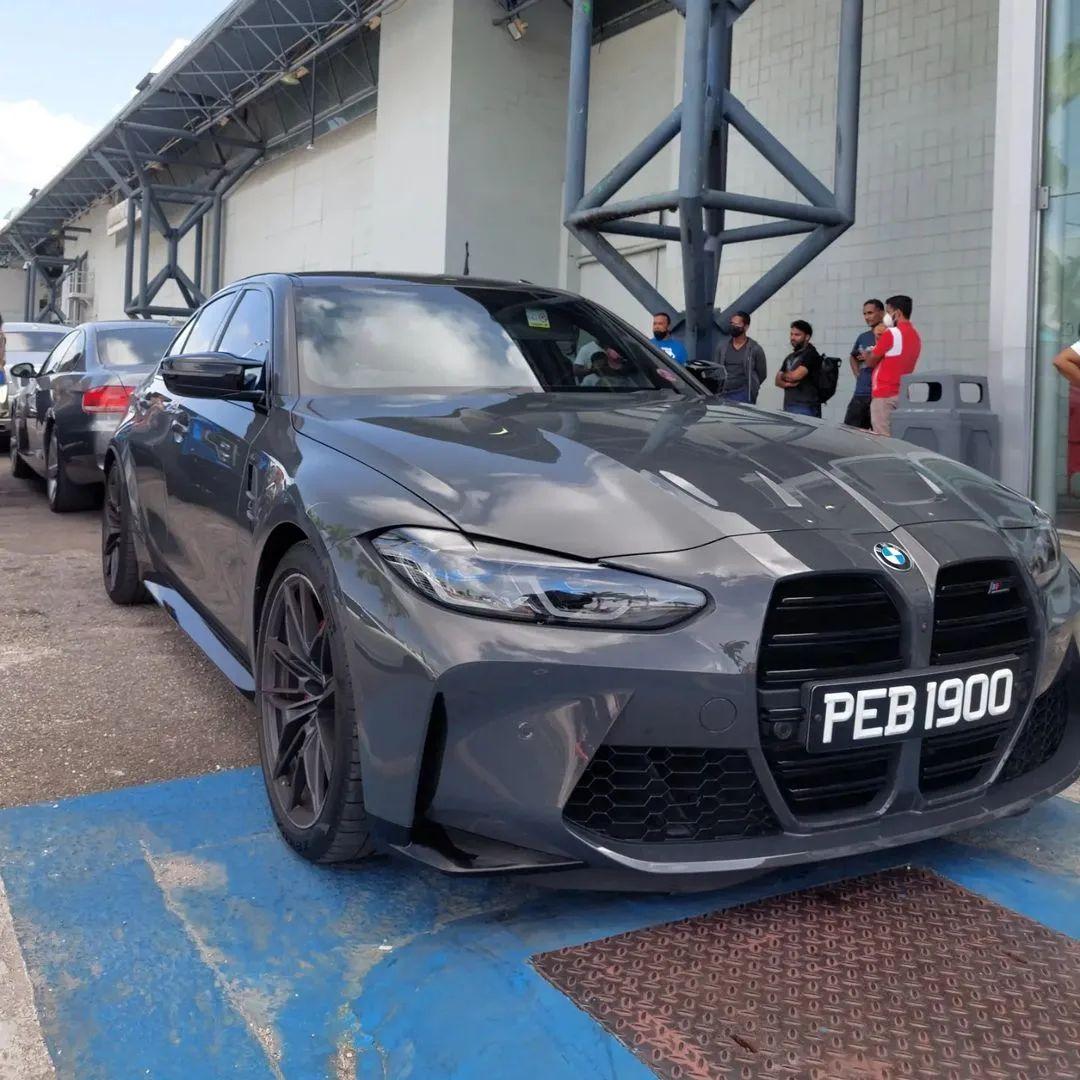License-Plate: (811, 689, 1014, 748)
